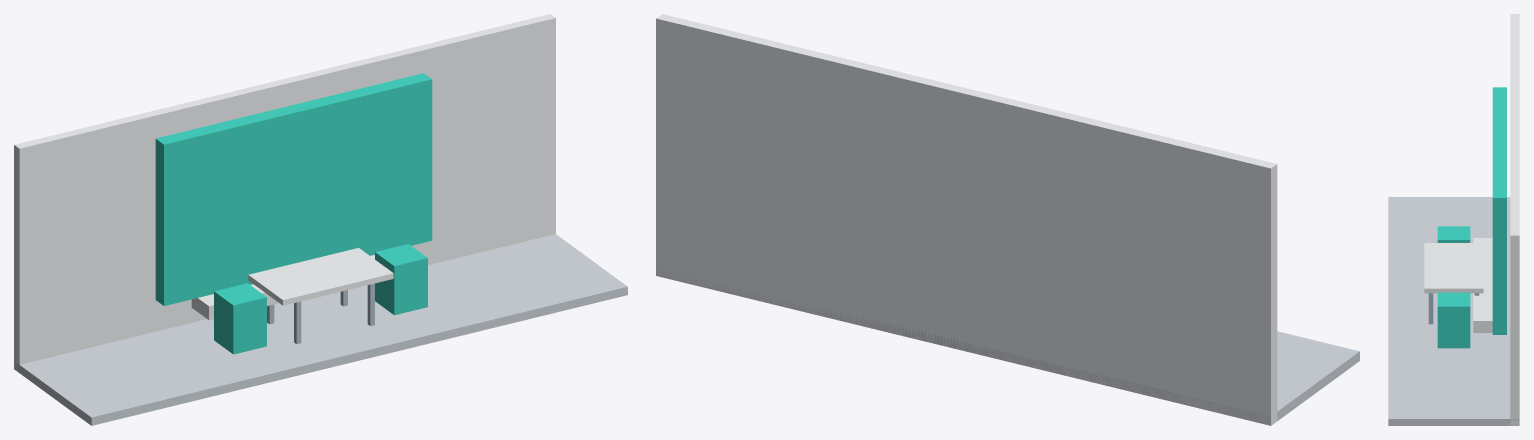
The picture shows the model from 3 angles, left to right: view 1: azimuth 30°, elevation 25°; view 2: azimuth 150°, elevation 25°; view 3: azimuth 270°, elevation 25°; orthographic projection. The views are drawn at different scales.
Parts seen in each view (by area): view 1: Exhibition Booth Concept; view 2: Exhibition Booth Concept; view 3: Exhibition Booth Concept.
Part boxes in pixels (x1,y1,x2,y2): Exhibition Booth Concept: (14,14,627,425); Exhibition Booth Concept: (656,14,1359,425); Exhibition Booth Concept: (1388,14,1519,425).
Size of the model in its own units: 8 by 3.2 by 2.
